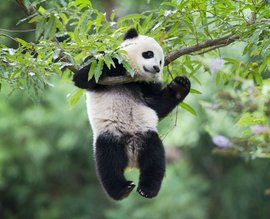panda: (75, 33, 187, 195)
